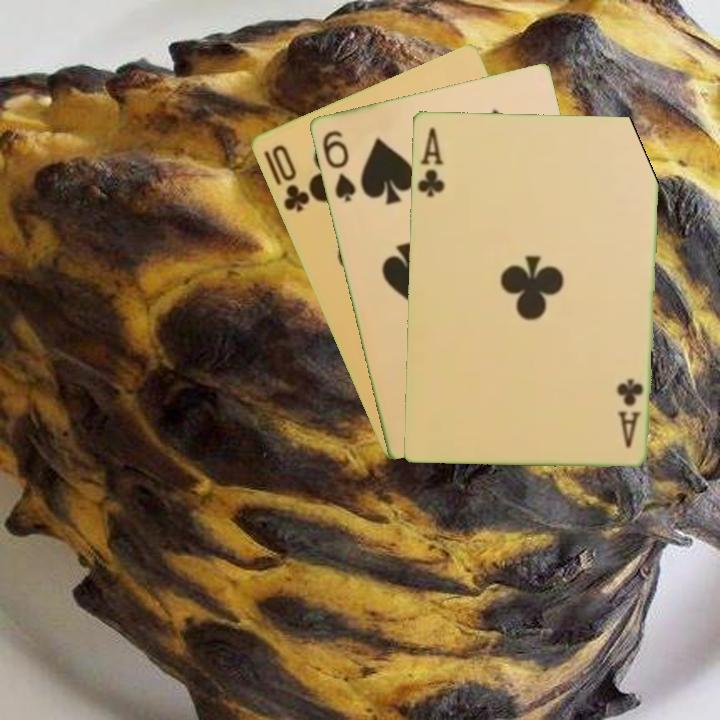10c: (267, 141, 312, 215)
6s: (318, 126, 359, 205)
Ac: (413, 124, 446, 200), (613, 374, 646, 450)
